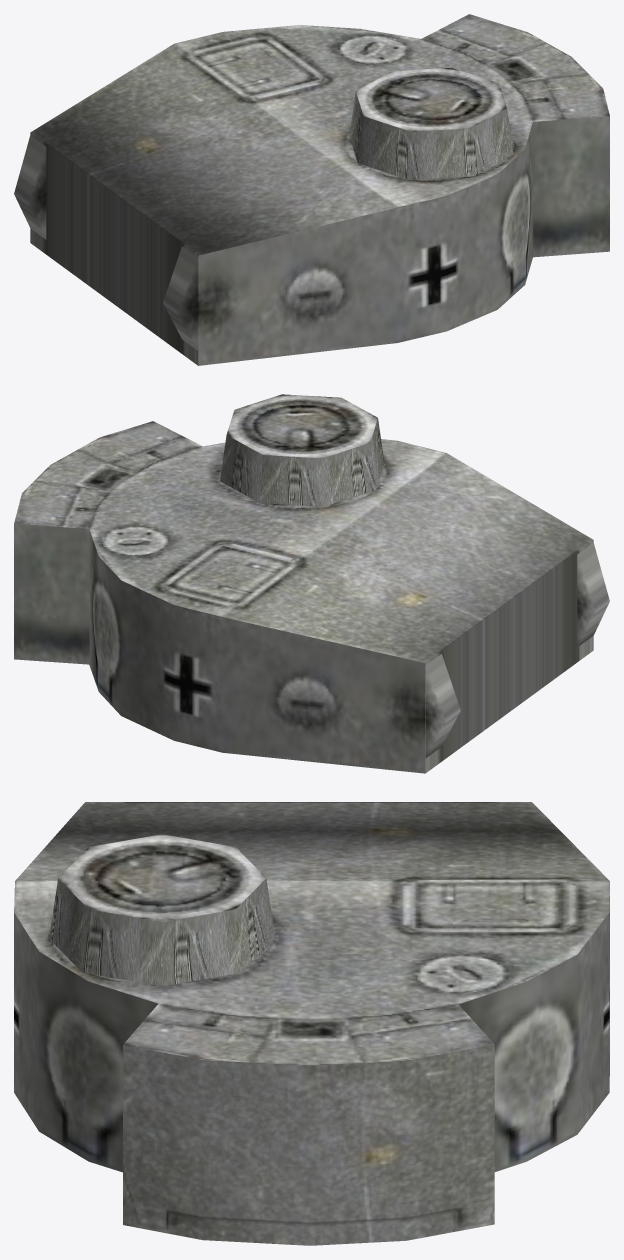
The model's file is turret.obj.
3 views of the same model, one above another, from view 1: azimuth 30°, elevation 25°; view 2: azimuth 150°, elevation 25°; view 3: azimuth 270°, elevation 25° (orthographic). The views are drawn at different scales.
Visible parts, largest first — view 1: turret; view 2: turret; view 3: turret.
Part boxes in pixels (box(x1,y1,x2,y2)): turret: box(14, 14, 609, 365); turret: box(14, 394, 609, 773); turret: box(14, 802, 609, 1245).
Size of the model in its own units: 77.38 by 28.06 by 62.98.
Materials: 1 (1 with a texture image).
